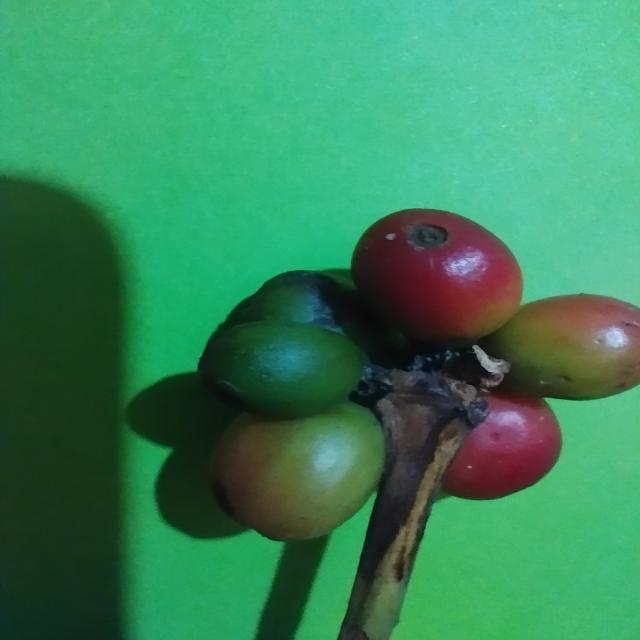Infectado: (349, 209, 524, 350)
Sano: (210, 406, 384, 542), (479, 294, 639, 402), (198, 320, 367, 422), (441, 385, 564, 504)
